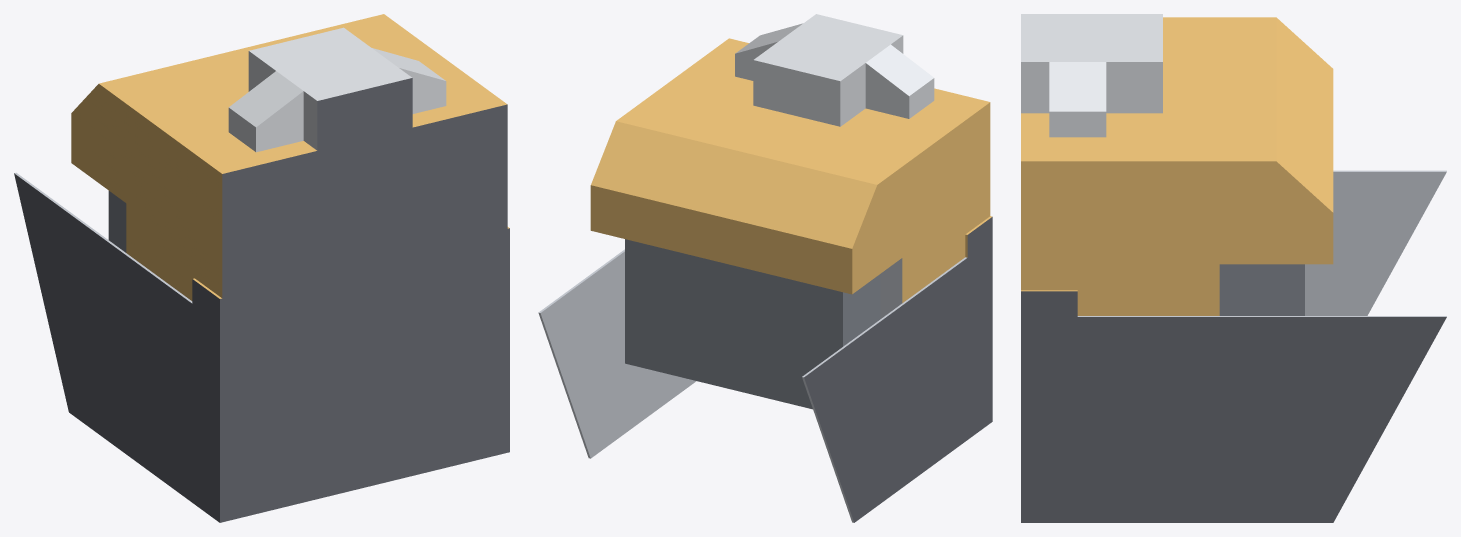
File: nose.glb
The picture shows the model from 3 angles, left to right: view 1: azimuth 30°, elevation 25°; view 2: azimuth 150°, elevation 25°; view 3: azimuth 270°, elevation 25°; orthographic projection. The views are drawn at different scales.
Size of the model in its own units: 1.22 by 1.6 by 1.5.
